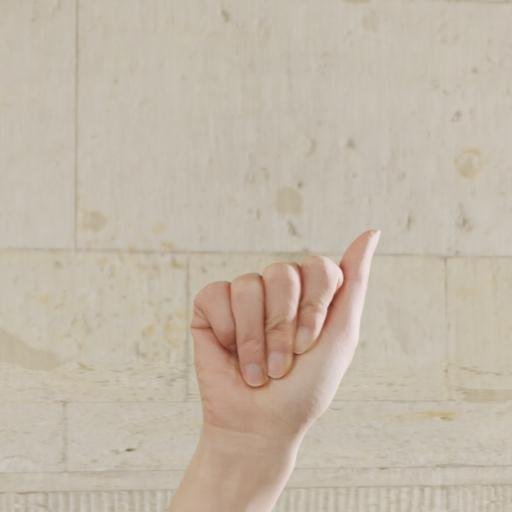A: (187, 225, 385, 442)
